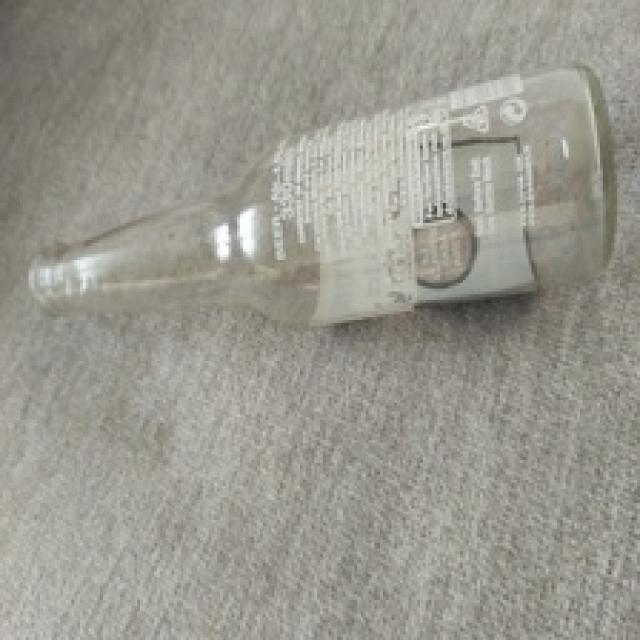Glass: (26, 54, 616, 330)
